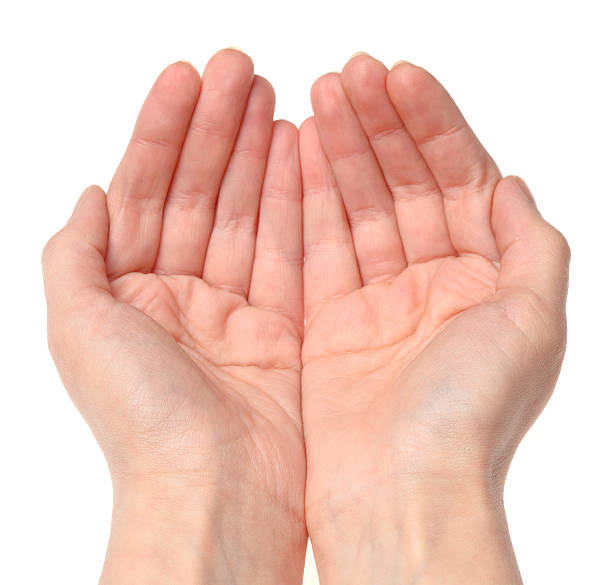non-diseased: (80, 46, 548, 500)
